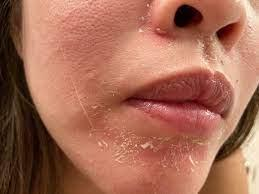Dry-Skin: (107, 137, 205, 186), (64, 76, 103, 123), (135, 5, 167, 42)
